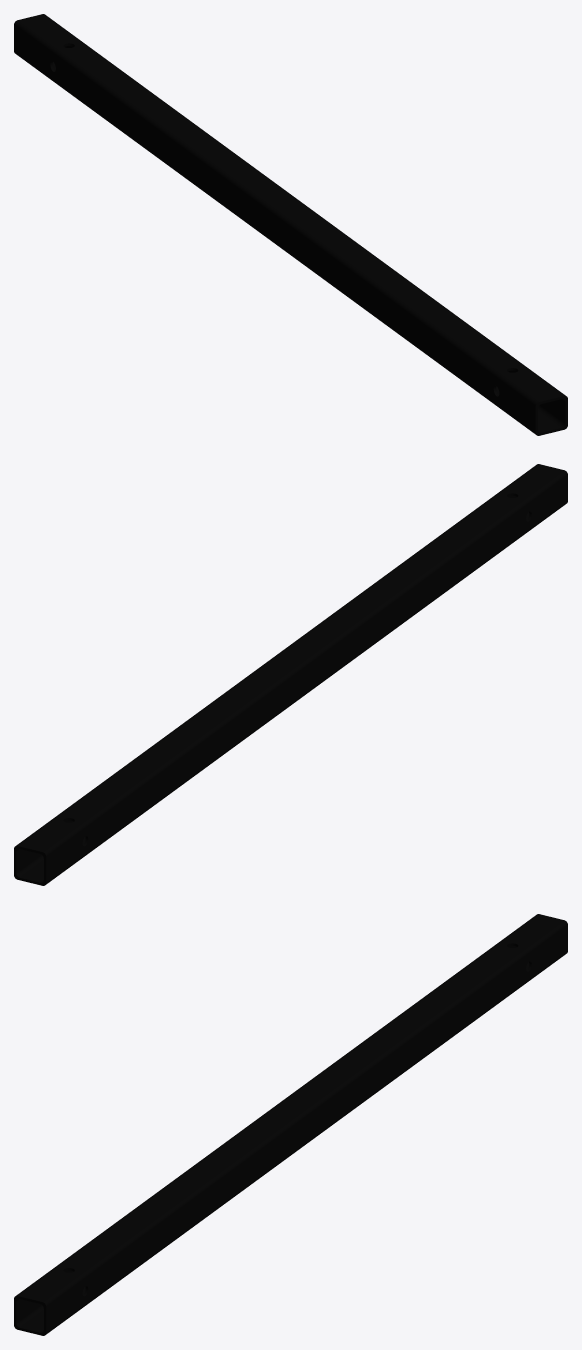
Rendered from Profile_560_UV.glb.
3 views of the same model, one above another, from view 1: azimuth 30°, elevation 25°; view 2: azimuth 150°, elevation 25°; view 3: azimuth 330°, elevation 25° (orthographic).
Parts seen in each view (by area): view 1: Profile_560; view 2: Profile_560; view 3: Profile_560.
Part boxes in pixels (x1=…): Profile_560: x1=14, y1=14, x2=567, y2=435; Profile_560: x1=14, y1=464, x2=567, y2=885; Profile_560: x1=14, y1=914, x2=567, y2=1335.
Size of the model in its own units: 0.02 by 0.02 by 0.56.
Materials: 1 (1 with a texture image).
